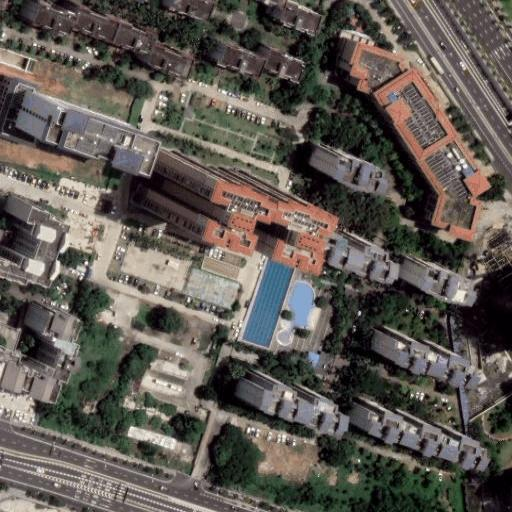building: (334, 37, 476, 236), (14, 90, 138, 167), (342, 398, 465, 459), (0, 301, 63, 393), (140, 146, 215, 223), (208, 168, 276, 242), (233, 369, 324, 424), (0, 196, 53, 278), (366, 327, 452, 377), (309, 231, 373, 271), (307, 143, 362, 183), (395, 255, 451, 294), (147, 43, 194, 78), (73, 9, 119, 42), (220, 46, 267, 78), (113, 21, 158, 54), (279, 2, 321, 36), (34, 4, 77, 37), (264, 50, 305, 83), (462, 478, 500, 511), (168, 0, 216, 23), (491, 289, 512, 334), (343, 30, 376, 48)
